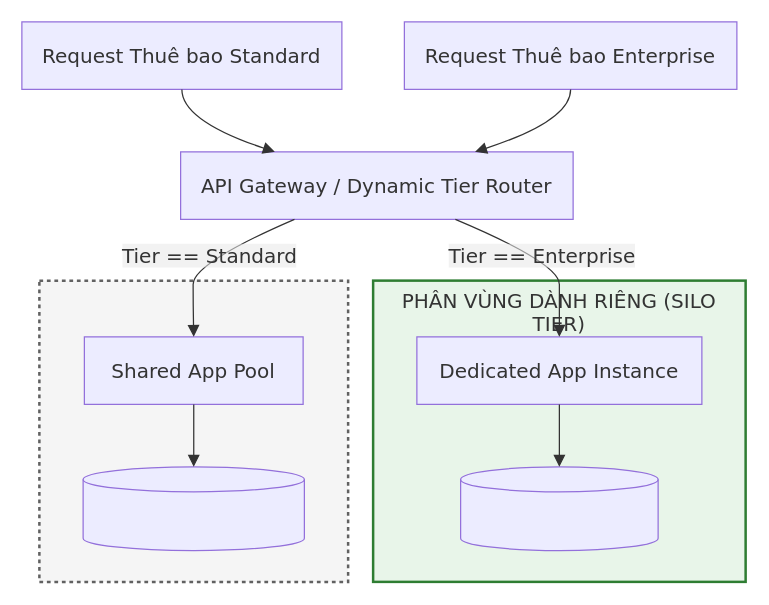
The diagram is 769 pixels wide and 605 high, and some of its shapes have lost their labels. Each missing label, with the box of its shape:
Dedicated Database: (459, 466, 658, 551)
PHÂN VÙNG DÙNG CHUNG (POOLED TIER): (38, 279, 349, 582)
Shared Database + RLS: (82, 466, 304, 551)
